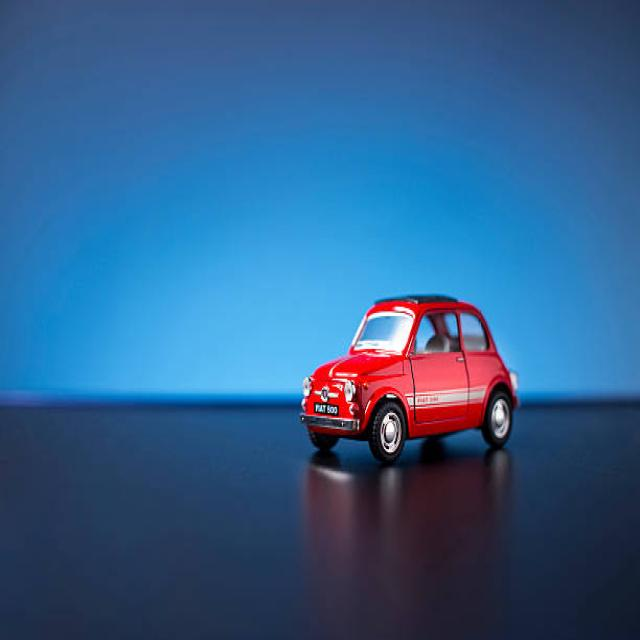Car: (299, 292, 520, 464)
